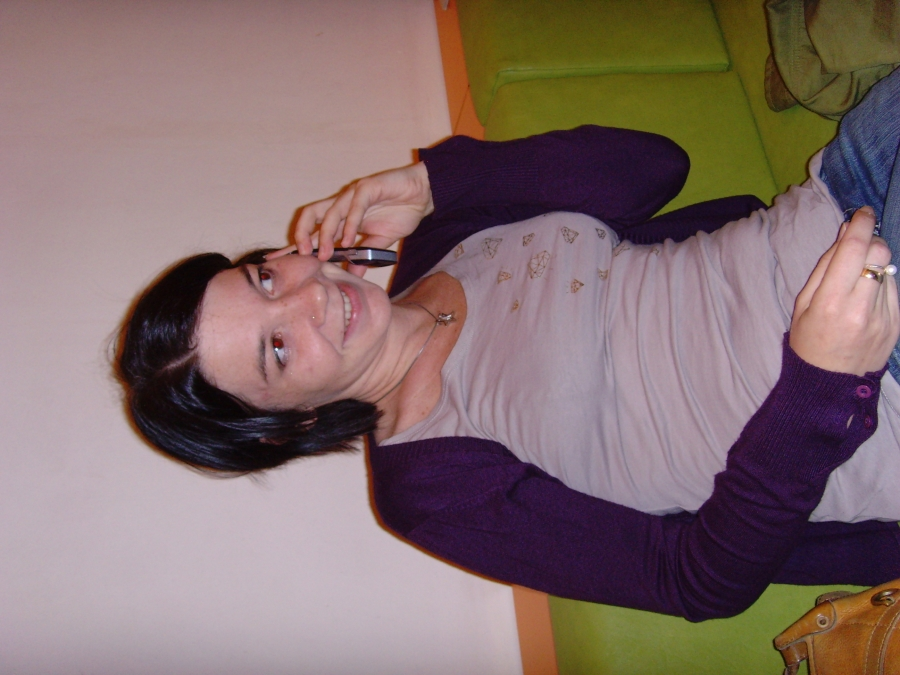phone: (290, 221, 407, 285)
talk: (228, 161, 431, 407)
